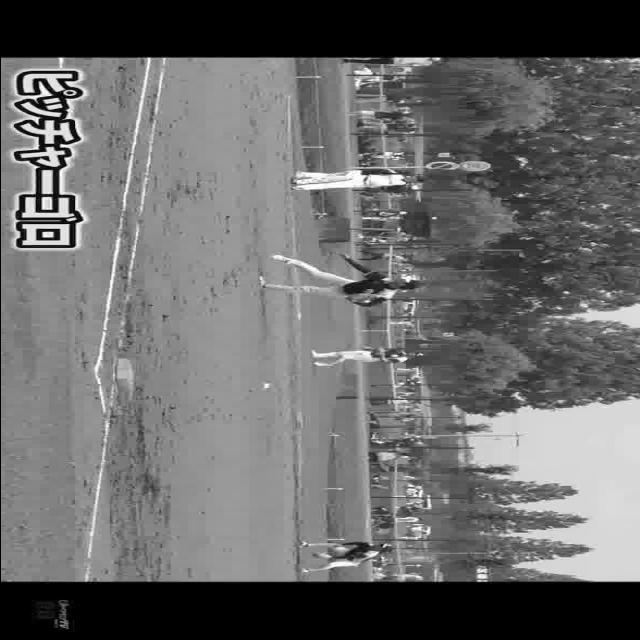base: (112, 356, 134, 408)
baseball_glove: (343, 294, 375, 302)
shoe: (268, 253, 300, 267), (248, 278, 270, 292)
